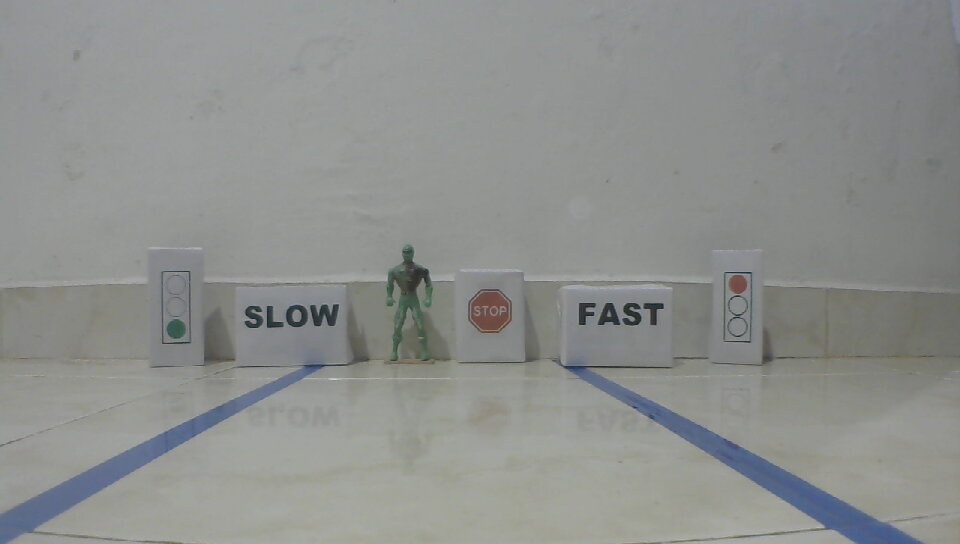Fast: (576, 299, 664, 329)
Green Traffic Light: (158, 267, 193, 346)
Person: (381, 242, 436, 366)
Red Traffic Light: (721, 270, 754, 346)
Slow: (242, 301, 342, 330)
Stop Sign: (466, 288, 515, 335)
